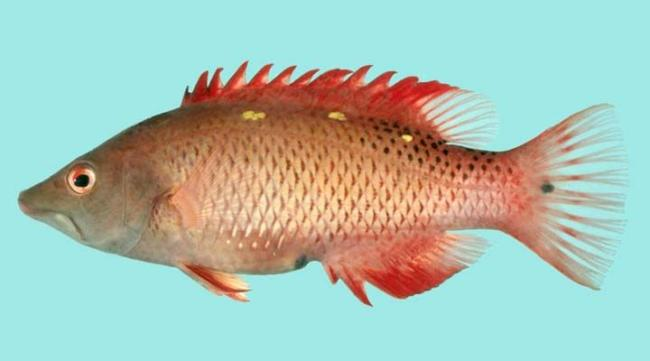fish: (17, 61, 631, 306)
